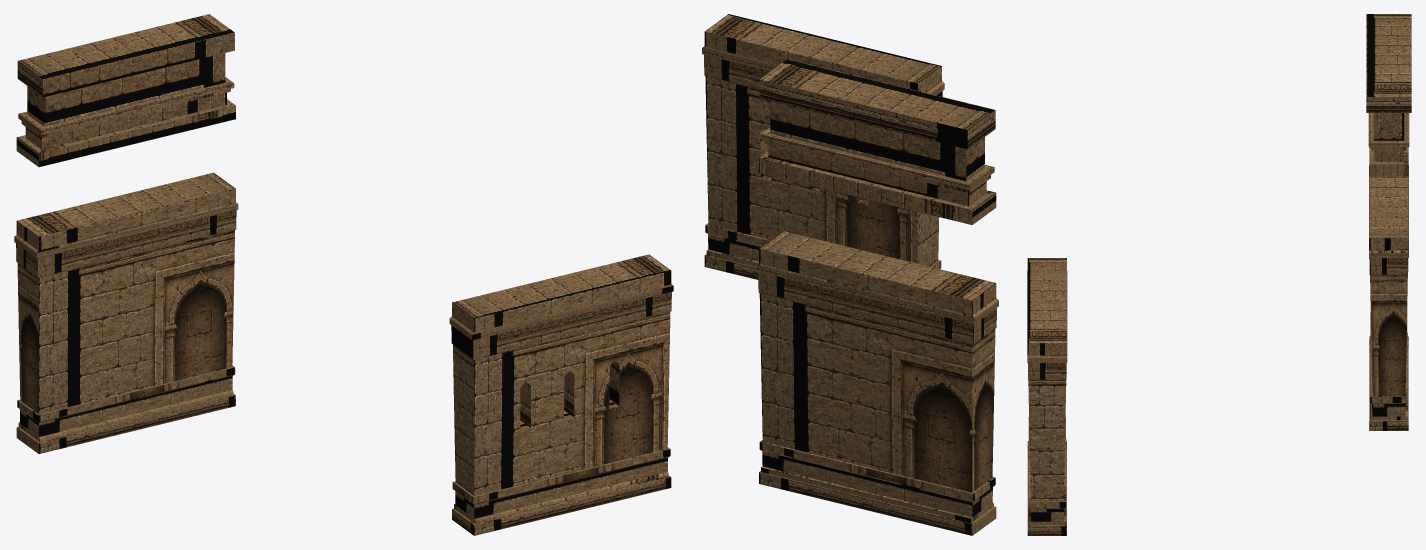
The model's file is 2walls and a merlon.fbx.
The picture shows the model from 3 angles, left to right: view 1: azimuth 30°, elevation 25°; view 2: azimuth 150°, elevation 25°; view 3: azimuth 270°, elevation 25°; orthographic projection. The views are drawn at different scales.
Parts seen in each view (by area): view 1: plain wall a, slit wall a, flat merlon; view 2: plain wall a, slit wall a, flat merlon; view 3: slit wall a, plain wall a, flat merlon.
Boxes of the visible parts, box(x1,y1,x2,y2) form: plain wall a: box(14, 172, 238, 453); slit wall a: box(449, 254, 673, 535); flat merlon: box(16, 14, 235, 167); plain wall a: box(756, 231, 998, 535); slit wall a: box(702, 14, 944, 279); flat merlon: box(759, 59, 996, 224); slit wall a: box(1027, 258, 1067, 535); plain wall a: box(1369, 166, 1408, 430); flat merlon: box(1366, 14, 1411, 176).
Bounding box in the file's own units: 863 × 729 × 696.
